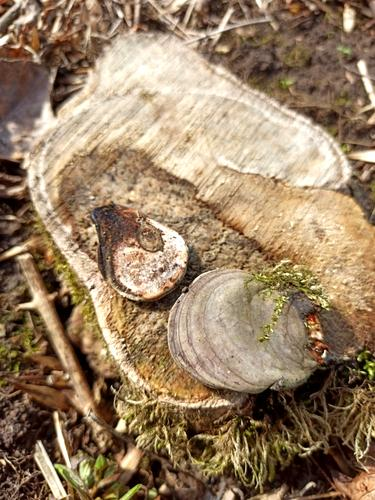Ganoderma - Fruit Body: (171, 268, 323, 390), (90, 198, 187, 294)
